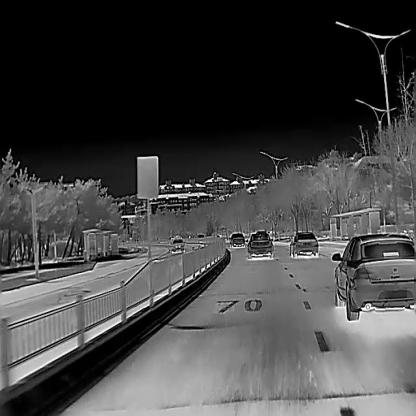car: (330, 232, 416, 320), (288, 230, 318, 258), (246, 232, 273, 258), (228, 232, 244, 247), (170, 238, 184, 253)
